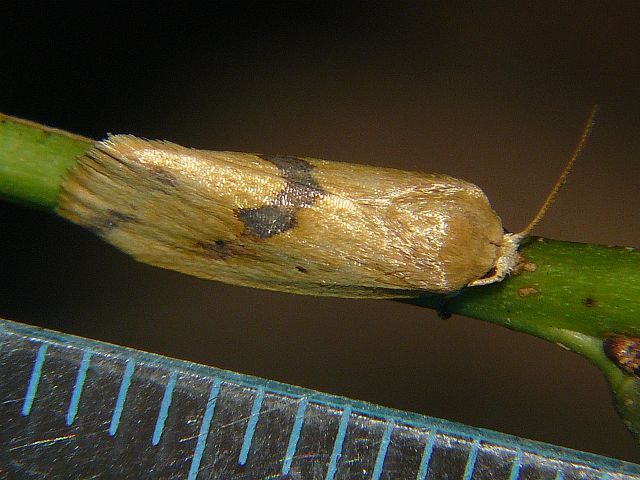Noctuidae: (53, 102, 600, 297)
